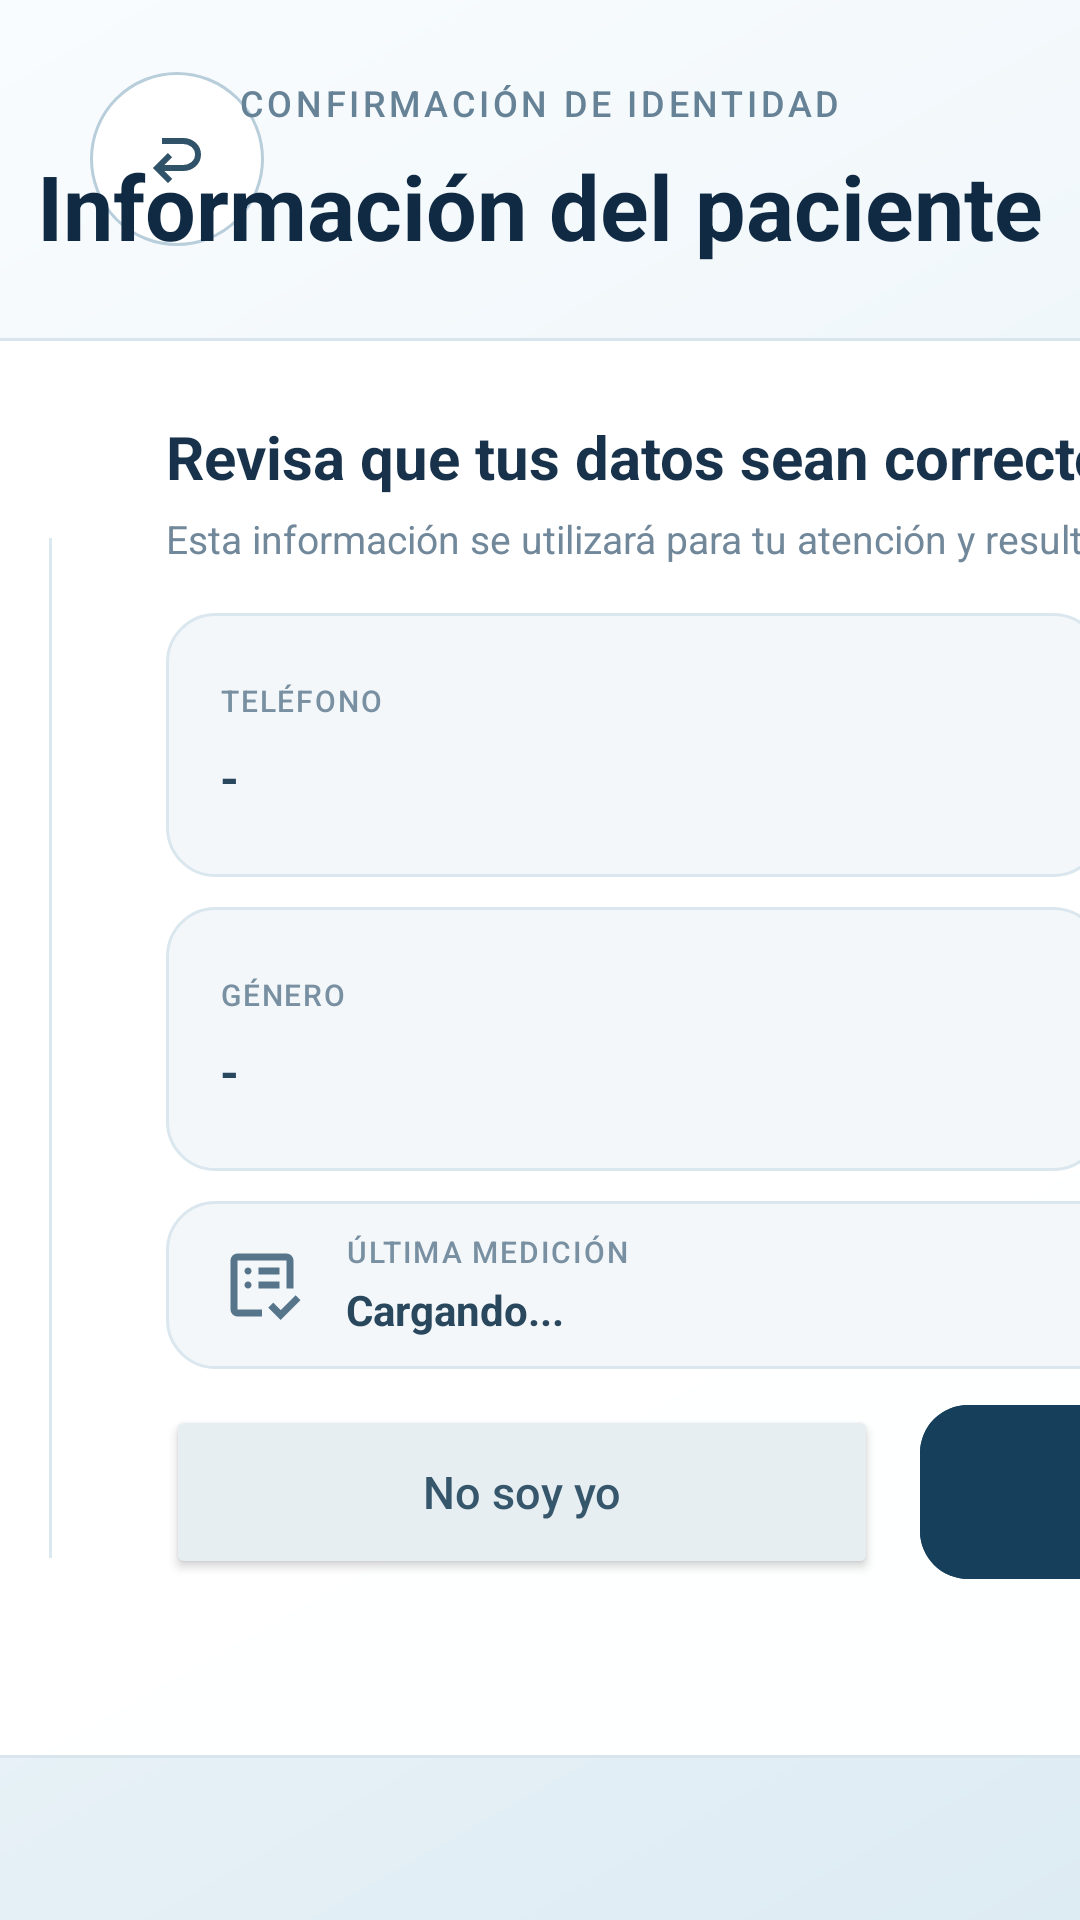

Screen size 1080x1920. Icon name, then its center in pixels as (x=x, y=y):
historial: (x=265, y=1286)
